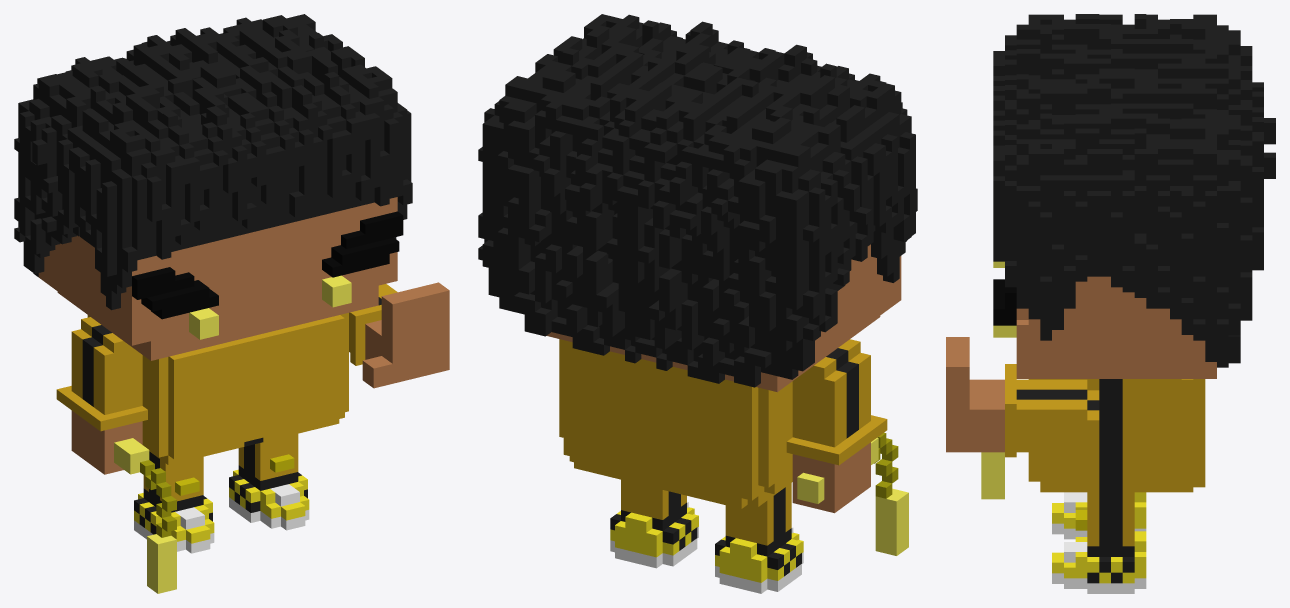
Rendered from asset.glb.
3 views of the same model, side by side, from view 1: azimuth 30°, elevation 25°; view 2: azimuth 150°, elevation 25°; view 3: azimuth 270°, elevation 25° (orthographic). The views are drawn at different scales.
Visible parts, largest first — view 1: Bruce lee; view 2: Bruce lee; view 3: Bruce lee.
Boxes of the visible parts, x1,y1,x2,y2 form: Bruce lee: (14, 14, 449, 593); Bruce lee: (478, 14, 917, 593); Bruce lee: (946, 14, 1275, 593).
Size of the model in its own units: 3.4 by 4.5 by 2.8.
1 material, 1 textured.
